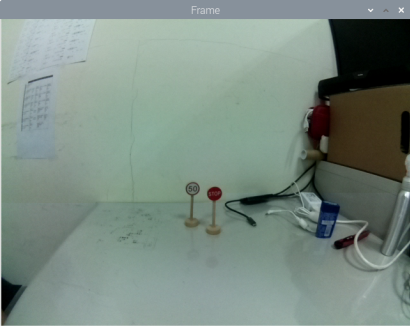Speed50: (184, 180, 201, 198)
Stop: (206, 186, 224, 204)
